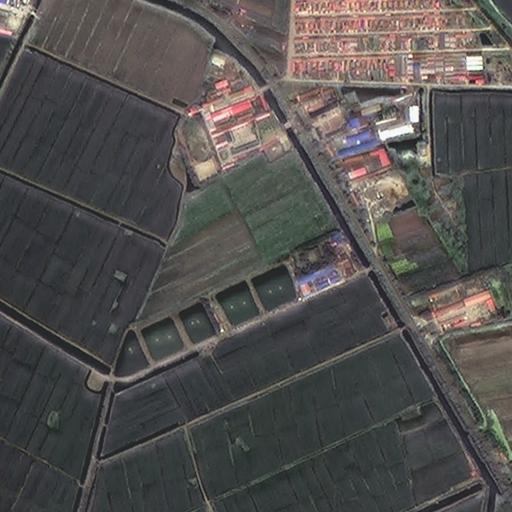school: (174, 84, 278, 186)
